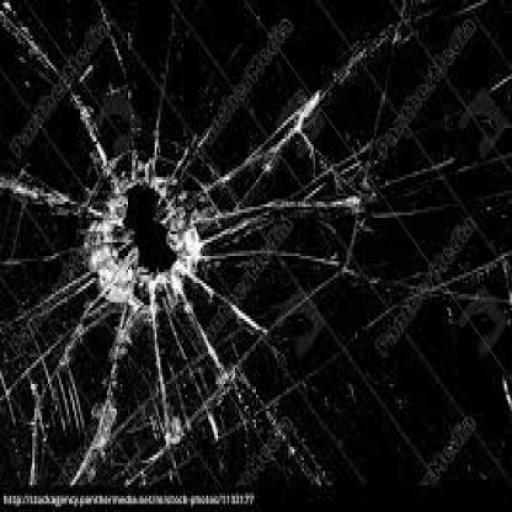glass: (0, 0, 508, 487), (1, 250, 142, 490), (149, 264, 266, 490), (70, 283, 184, 490), (0, 0, 103, 218), (0, 0, 132, 161), (187, 185, 357, 275), (99, 0, 171, 180)
